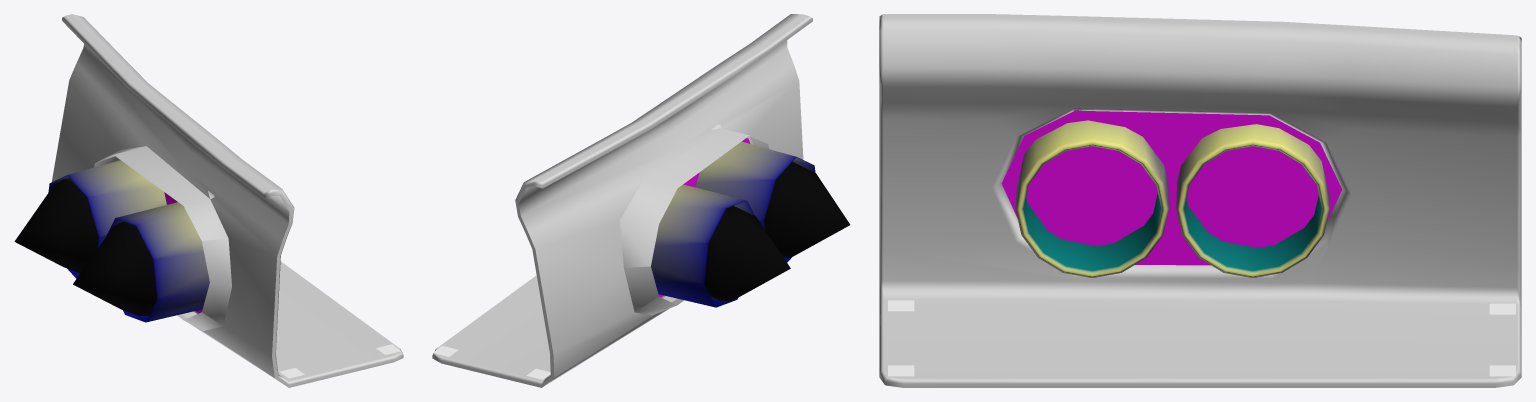
The model's file is Car_Nissan_SkylineGTRVspecR34_1999_Exhausts_SetF.fbx.
3 views of the same model, side by side, from view 1: azimuth 30°, elevation 25°; view 2: azimuth 150°, elevation 25°; view 3: azimuth 270°, elevation 25° (orthographic). The views are drawn at different scales.
Parts seen in each view (by area): view 1: Exhausts 6; view 2: Exhausts 6; view 3: Exhausts 6.
Part boxes in pixels (box(x1,y1,x2,y2)): Exhausts 6: box(14, 14, 403, 387); Exhausts 6: box(432, 14, 850, 387); Exhausts 6: box(879, 14, 1521, 387).
Bounding box in the file's own units: 0.1908 × 0.1451 × 0.2965.
